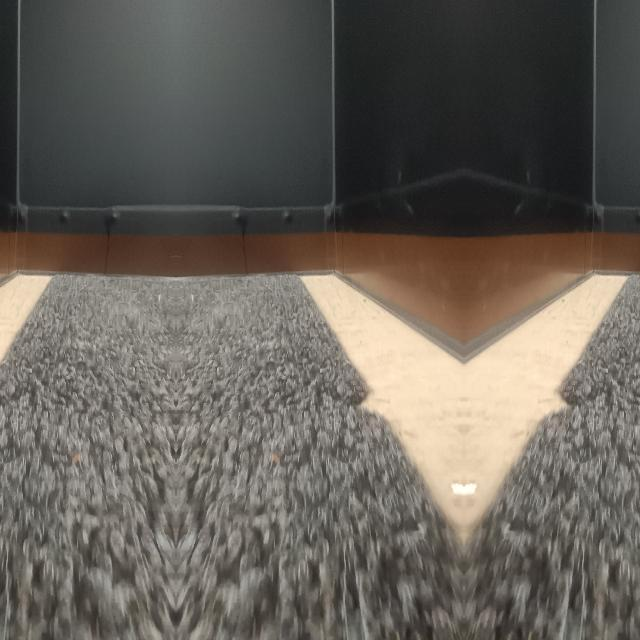obstacle: (178, 12, 344, 278), (6, 12, 172, 278), (583, 11, 640, 278)
